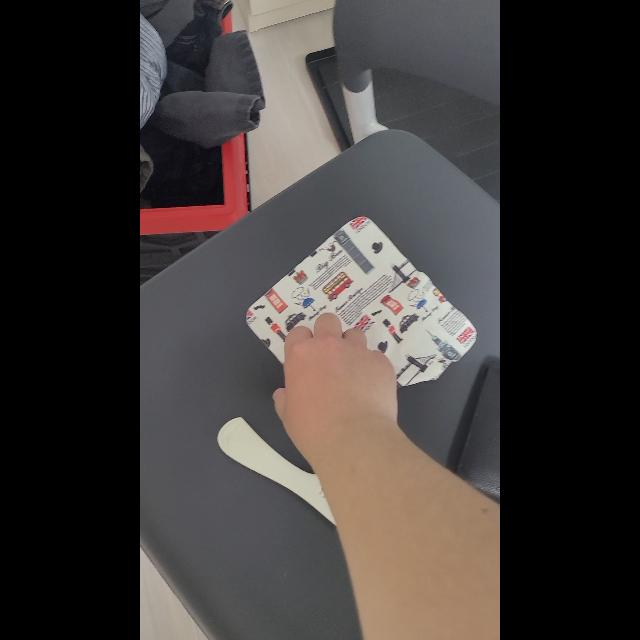COMB: (218, 418, 336, 526)
Glasses cleaning cloth: (246, 215, 478, 389)
WALLET: (456, 360, 500, 504)
